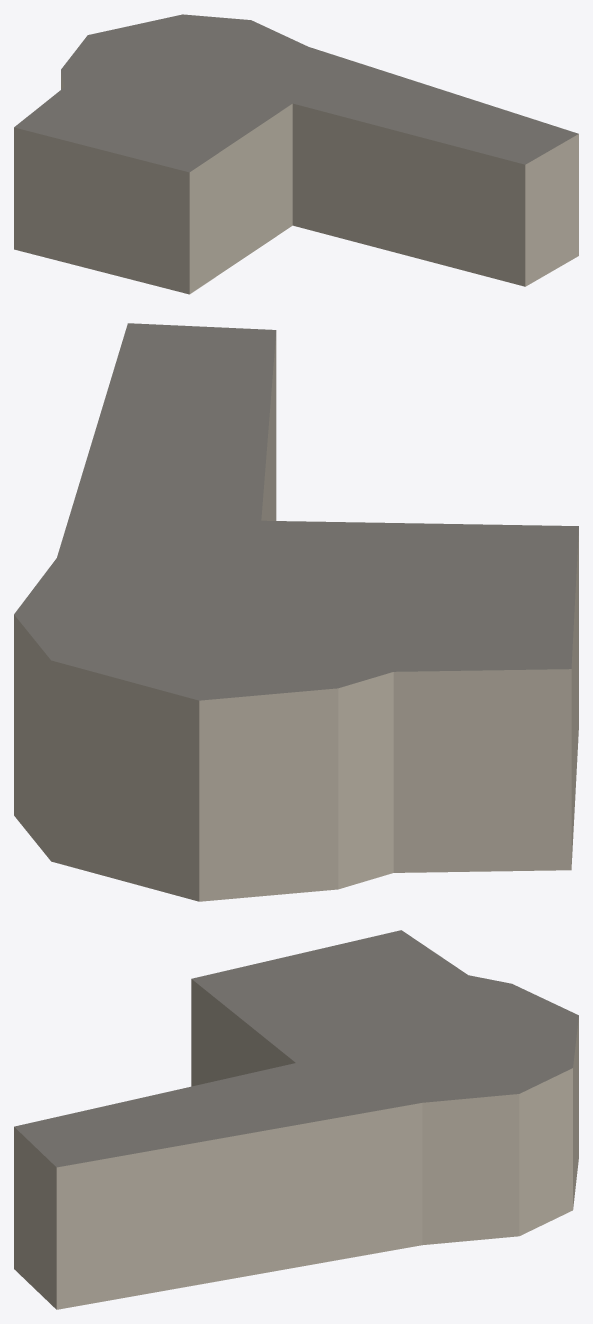
The picture shows the model from 3 angles, top to bottom: view 1: azimuth 30°, elevation 25°; view 2: azimuth 150°, elevation 25°; view 3: azimuth 270°, elevation 25°; orthographic projection. The views are drawn at different scales.
Parts seen in each view (by area): view 1: HP-w1512461406; view 2: HP-w1512461406; view 3: HP-w1512461406.
Part boxes in pixels (box(x1,y1,x2,y2)): HP-w1512461406: box(14, 14, 578, 294); HP-w1512461406: box(14, 323, 578, 901); HP-w1512461406: box(14, 930, 578, 1309).
Size of the model in its own units: 64.36 by 18 by 64.73.
